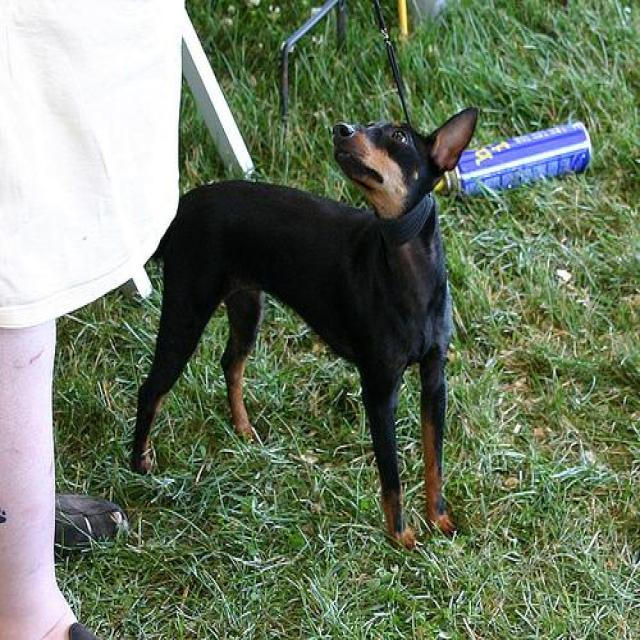toy_terrier: (131, 101, 481, 552)
